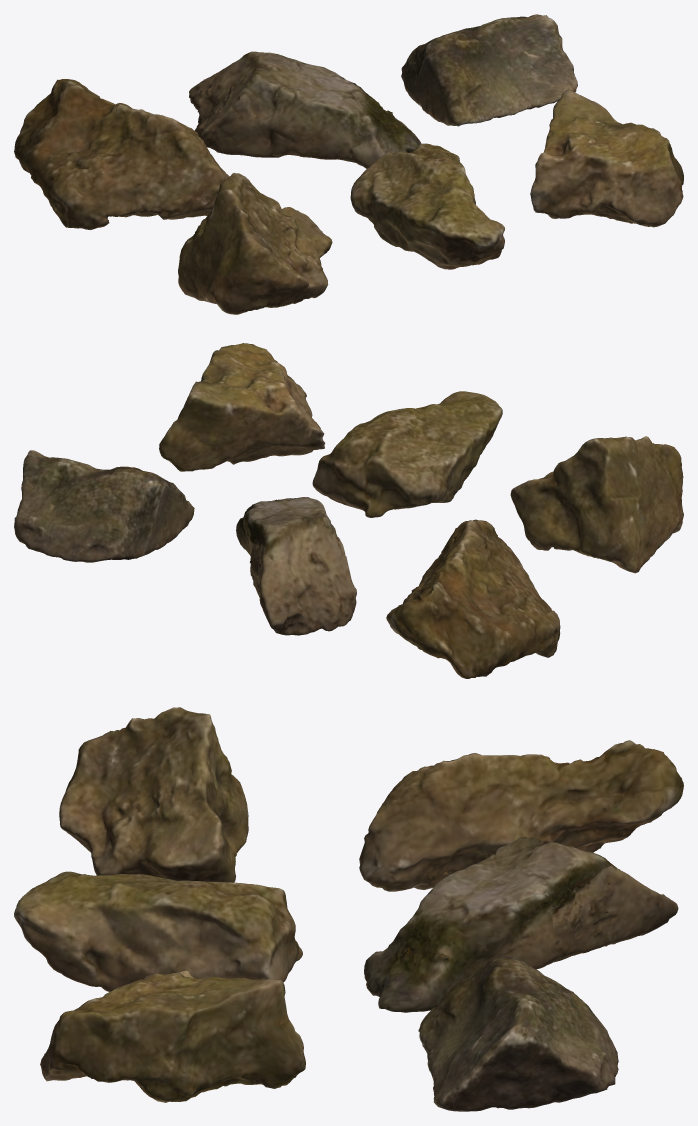
File: rock_moss_set_01.gltf
The picture shows the model from 3 angles, top to bottom: view 1: azimuth 30°, elevation 25°; view 2: azimuth 150°, elevation 25°; view 3: azimuth 270°, elevation 25°; orthographic projection. The views are drawn at different scales.
Parts seen in each view (by area): view 1: rock_moss_set_01_rock01, rock_moss_set_01_rock02, rock_moss_set_01_rock06, rock_moss_set_01_rock04, rock_moss_set_01_rock03, rock_moss_set_01_rock05; view 2: rock_moss_set_01_rock04, rock_moss_set_01_rock01, rock_moss_set_01_rock05, rock_moss_set_01_rock03, rock_moss_set_01_rock06, rock_moss_set_01_rock02; view 3: rock_moss_set_01_rock01, rock_moss_set_01_rock02, rock_moss_set_01_rock05, rock_moss_set_01_rock04, rock_moss_set_01_rock06, rock_moss_set_01_rock03.
Part boxes in pixels (x1,y1,x2,y2): rock_moss_set_01_rock01: (14,79,229,229); rock_moss_set_01_rock02: (189,51,421,168); rock_moss_set_01_rock06: (530,89,683,227); rock_moss_set_01_rock04: (178,173,332,314); rock_moss_set_01_rock03: (401,14,577,126); rock_moss_set_01_rock05: (350,143,504,269); rock_moss_set_01_rock04: (510,436,683,573); rock_moss_set_01_rock01: (386,519,560,678); rock_moss_set_01_rock05: (312,391,502,517); rock_moss_set_01_rock03: (14,450,194,562); rock_moss_set_01_rock06: (159,343,325,471); rock_moss_set_01_rock02: (236,497,356,635); rock_moss_set_01_rock01: (359,740,683,891); rock_moss_set_01_rock02: (364,836,678,1012); rock_moss_set_01_rock05: (14,871,302,991); rock_moss_set_01_rock04: (59,707,248,882); rock_moss_set_01_rock06: (40,970,305,1102); rock_moss_set_01_rock03: (418,956,618,1111).
Bounding box in the file's own units: 8 × 1.77 × 6.95.
1 material, 1 textured.
